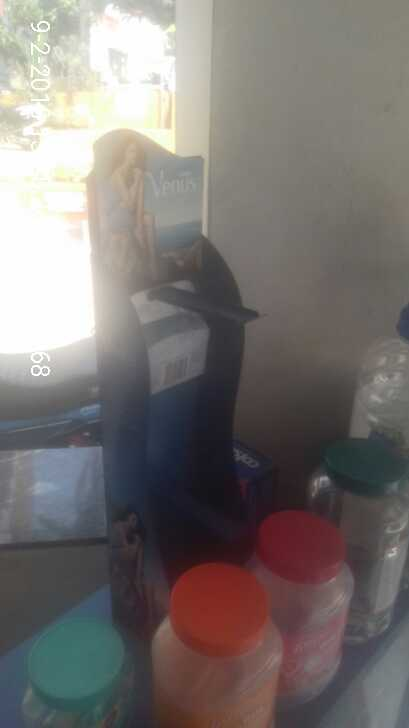reject: (154, 285, 317, 411)
